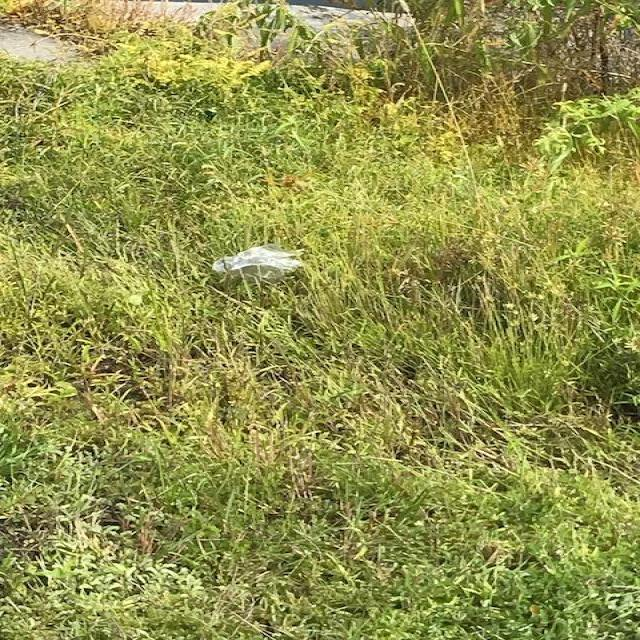litter: (212, 246, 300, 281)
